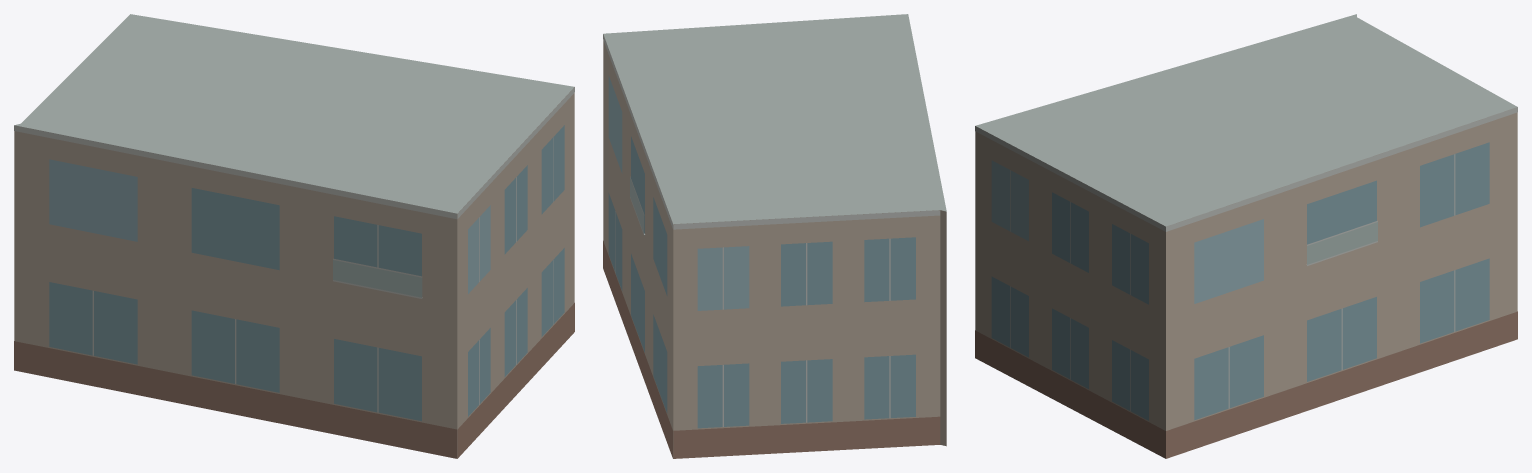
The model's file is survey-upis-32857232.glb.
3 renders of one model, left to right at view 1: azimuth 30°, elevation 25°; view 2: azimuth 150°, elevation 25°; view 3: azimuth 270°, elevation 25°, orthographic. The views are drawn at different scales.
Parts seen in each view (by area): view 1: survey-upis-32857232.tmp; view 2: survey-upis-32857232.tmp; view 3: survey-upis-32857232.tmp.
Part boxes in pixels (<box>): survey-upis-32857232.tmp: <box>14,14,574,458</box>; survey-upis-32857232.tmp: <box>603,14,946,458</box>; survey-upis-32857232.tmp: <box>975,14,1517,458</box>.
Bounding box in the file's own units: 20.61 × 10.5 × 22.23.
